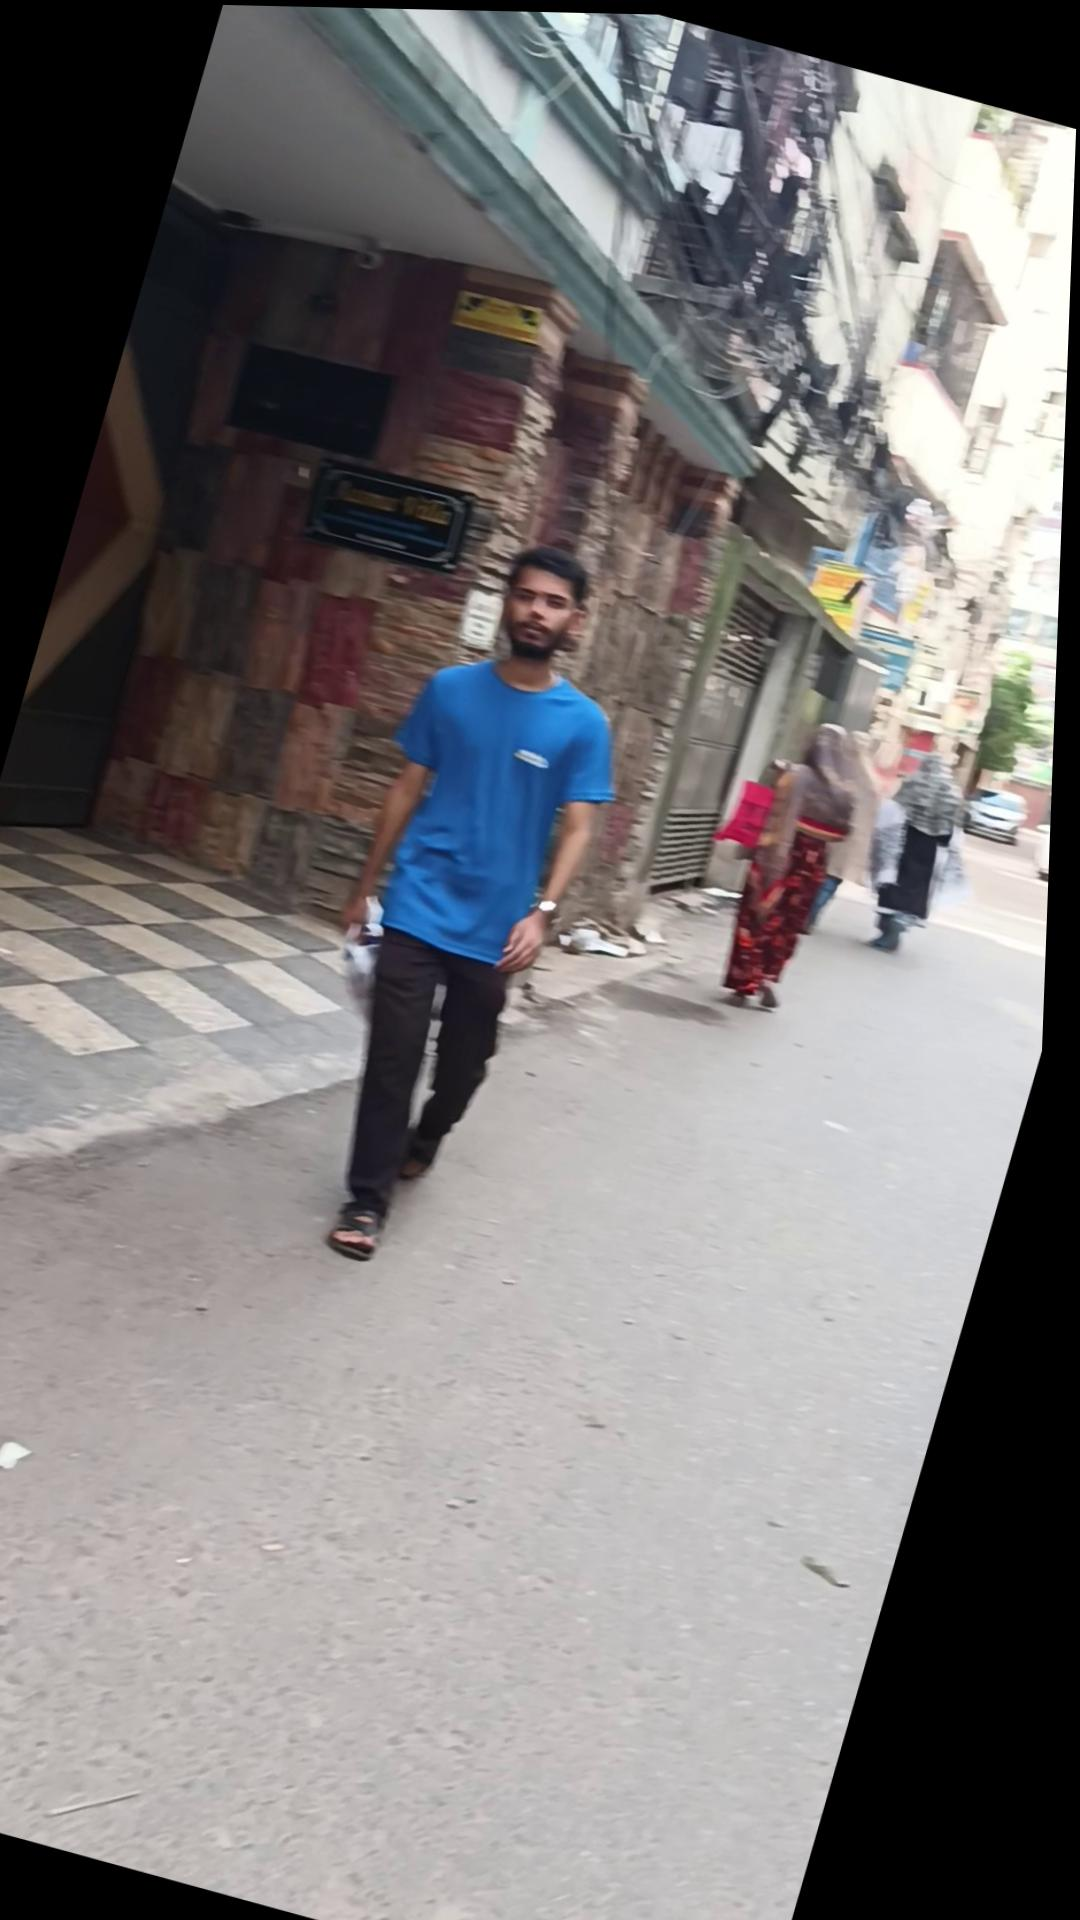Car: (960, 774, 1040, 844)
Crosswalk: (0, 712, 719, 1395)
Muddy road: (257, 512, 686, 1292), (715, 705, 887, 1019), (855, 736, 984, 956), (798, 720, 916, 943)
